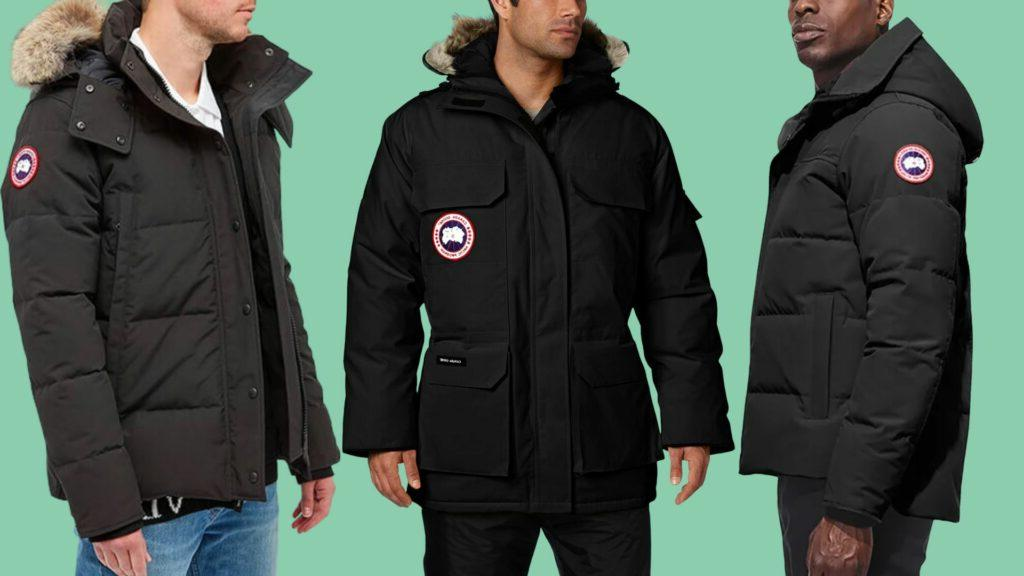coat: (341, 15, 735, 511), (2, 2, 334, 542), (737, 14, 985, 524)
trousers: (70, 476, 282, 576), (416, 495, 655, 576), (772, 472, 938, 576)
